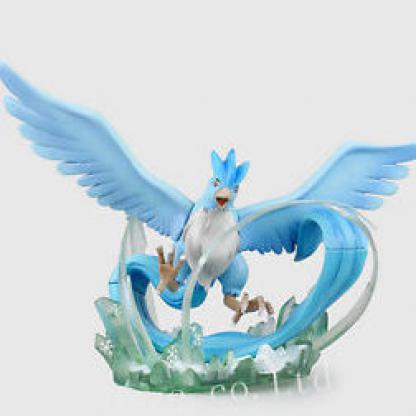Articuno: (147, 121, 296, 328)
